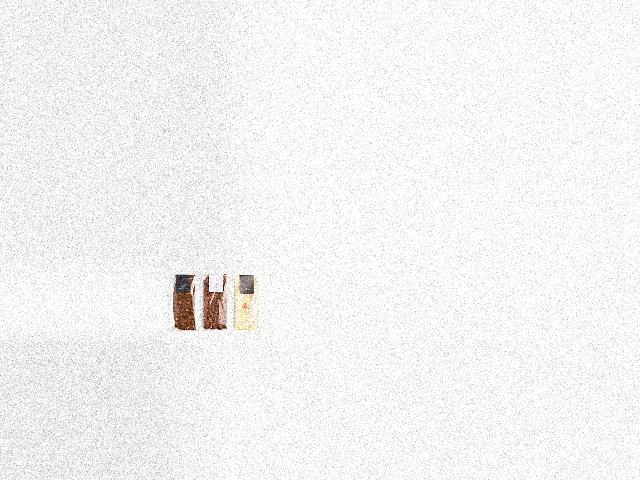chocolate: (163, 275, 198, 336)
